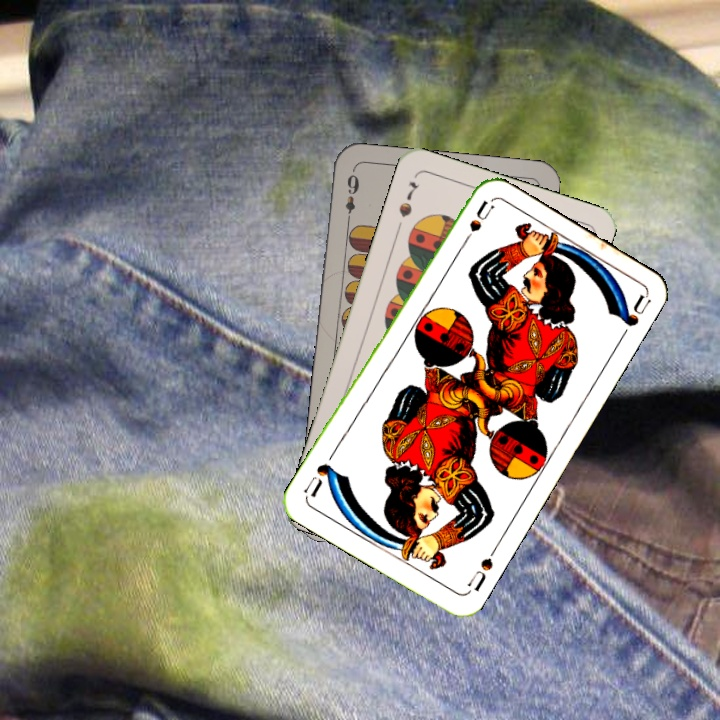E9: (341, 167, 362, 226)
S7: (394, 177, 420, 220)
SU: (455, 197, 495, 252), (463, 553, 496, 594)
